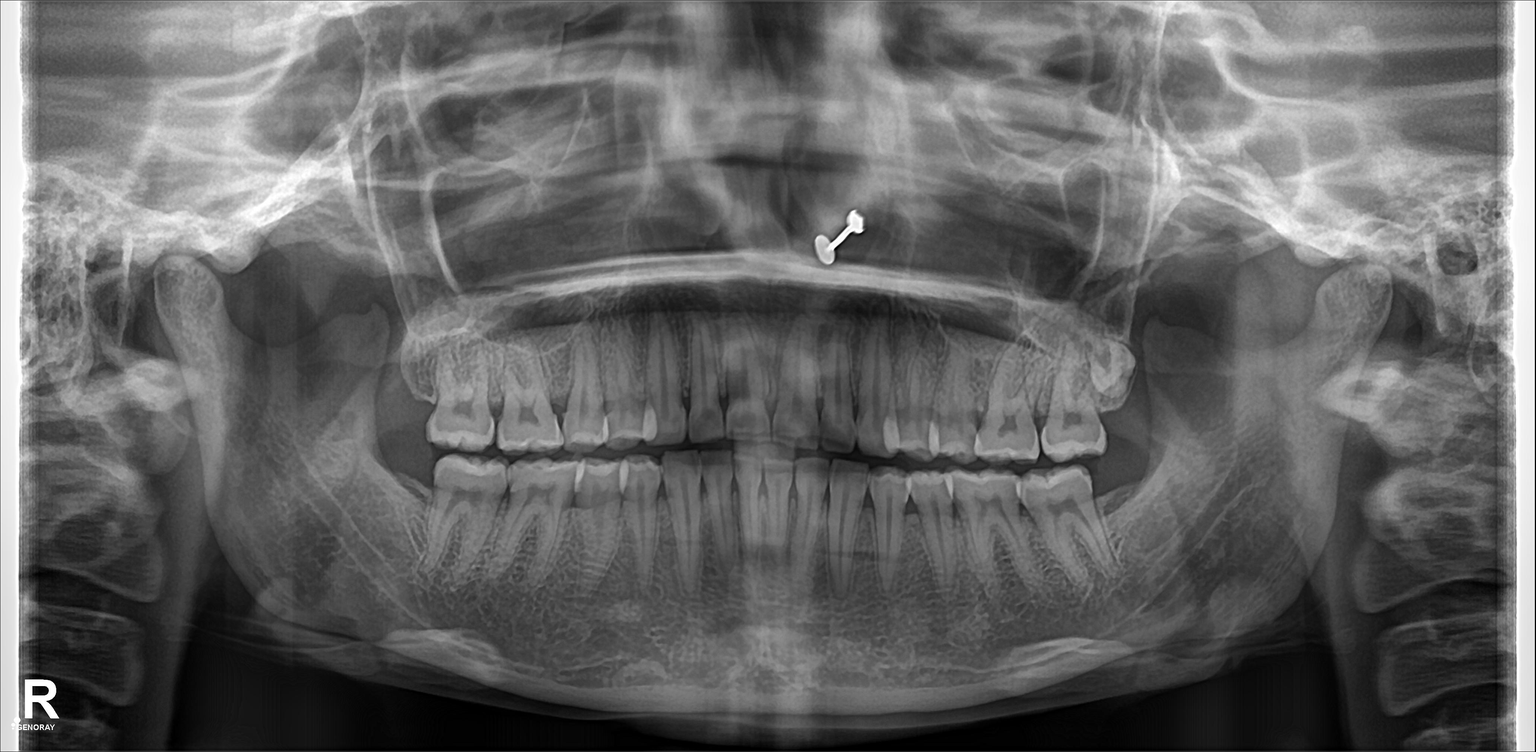Impacted Third Molar: (1089, 339, 1138, 405)
Missing Tooth: (1099, 458, 1150, 556), (376, 445, 428, 527), (387, 326, 435, 411)
